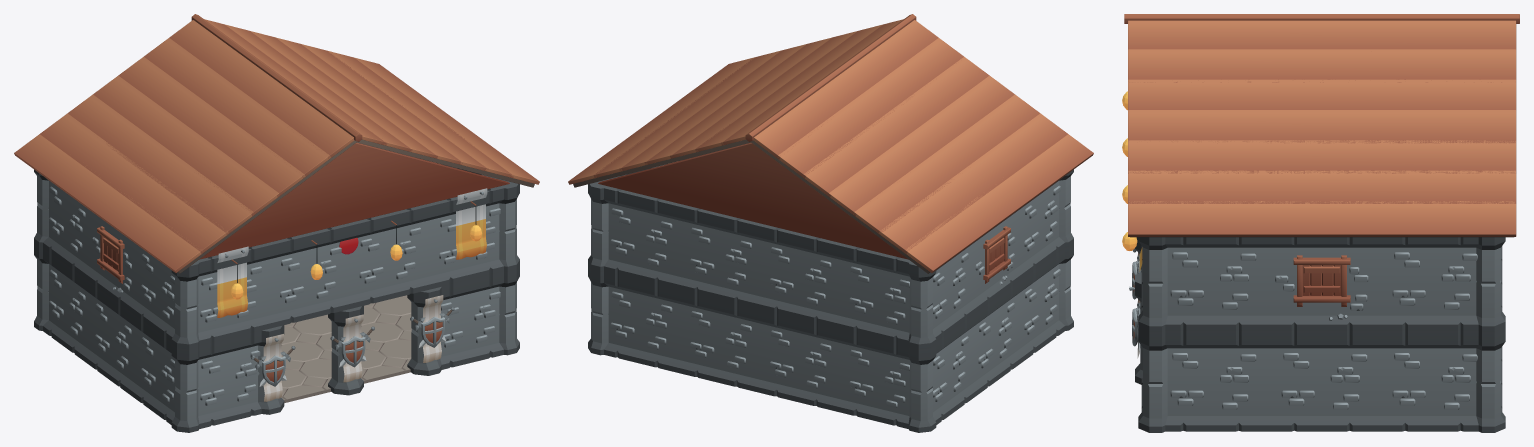
Rendered from bank_lanternhold.glb.
3 renders of one model, left to right at view 1: azimuth 30°, elevation 25°; view 2: azimuth 150°, elevation 25°; view 3: azimuth 270°, elevation 25°, orthographic. The views are drawn at different scales.
Parts seen in each view (by area): view 1: bank_lanternhold; view 2: bank_lanternhold; view 3: bank_lanternhold.
Boxes of the visible parts, x1,y1,x2,y2 form: bank_lanternhold: [14, 14, 539, 432]; bank_lanternhold: [568, 14, 1093, 432]; bank_lanternhold: [1122, 14, 1519, 432].
Size of the model in its own units: 13.77 by 9.75 by 10.76.
Materials: 5 (5 with a texture image).
